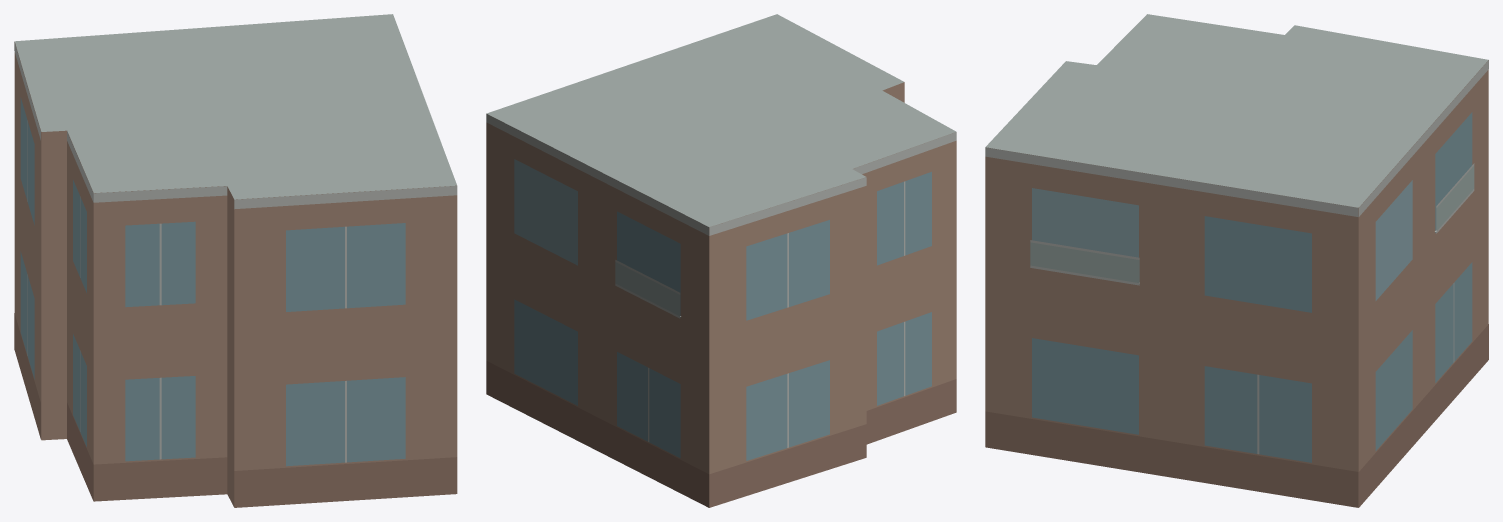
The model's file is survey-upis-33006504.glb.
The picture shows the model from 3 angles, left to right: view 1: azimuth 30°, elevation 25°; view 2: azimuth 150°, elevation 25°; view 3: azimuth 270°, elevation 25°; orthographic projection. The views are drawn at different scales.
Parts seen in each view (by area): view 1: survey-upis-33006504.tmp; view 2: survey-upis-33006504.tmp; view 3: survey-upis-33006504.tmp.
Part boxes in pixels (box(x1,y1,x2,y2)): survey-upis-33006504.tmp: box(14, 14, 457, 507); survey-upis-33006504.tmp: box(486, 14, 956, 507); survey-upis-33006504.tmp: box(985, 14, 1488, 507).
Size of the model in its own units: 10.81 by 7.8 by 11.87.
